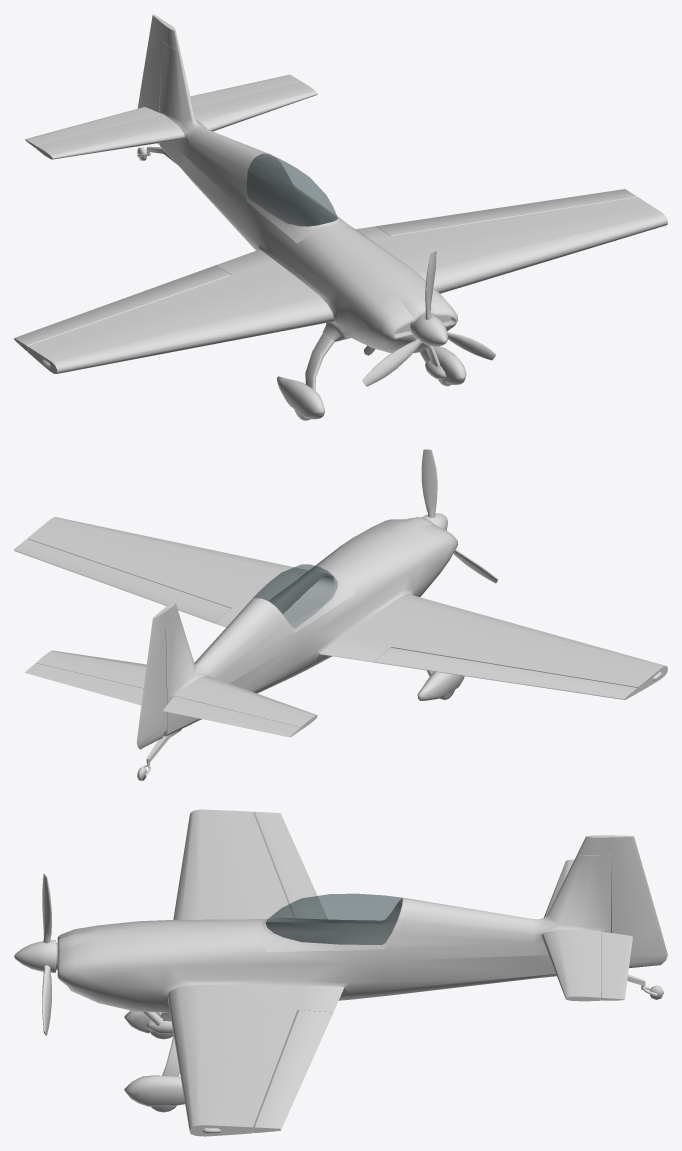
File: airplane.FBX
3 renders of one model, top to bottom at view 1: azimuth 30°, elevation 25°; view 2: azimuth 150°, elevation 25°; view 3: azimuth 270°, elevation 25°, orthographic. The views are drawn at different scales.
Parts seen in each view (by area): view 1: chassis, glass, aileron_r, aileron_l, elevator, propeller, rudder, canopy_chassis, propeller_hub; view 2: chassis, aileron_r, aileron_l, elevator, rudder, glass, propeller, canopy_chassis; view 3: chassis, glass, rudder, aileron_l, aileron_r, canopy_chassis, elevator, propeller, propeller_hub.
Part boxes in pixels (x1,y1,x2,y2): chassis: (27,40,667,419); glass: (247,154,337,226); aileron_r: (14,265,230,350); aileron_l: (376,189,637,236); elevator: (25,74,300,148); propeller: (362,251,496,386); rudder: (137,14,179,144); canopy_chassis: (244,152,354,243); propeller_hub: (412,313,447,346); chassis: (27,517,667,763); aileron_r: (375,647,638,699); aileron_l: (14,539,231,623); elevator: (25,663,301,737); rudder: (136,602,179,749); glass: (252,564,337,627); propeller: (421,449,497,583); canopy_chassis: (250,570,355,632); chassis: (56,809,645,1136); glass: (266,893,402,944); rudder: (577,835,667,967); aileron_l: (251,1010,332,1132); aileron_r: (253,811,327,919); canopy_chassis: (258,897,407,952); elevator: (600,931,632,1000); propeller: (42,873,51,1035); propeller_hub: (14,940,55,972).
Size of the model in its own units: 6.09 by 2.13 by 5.3.
